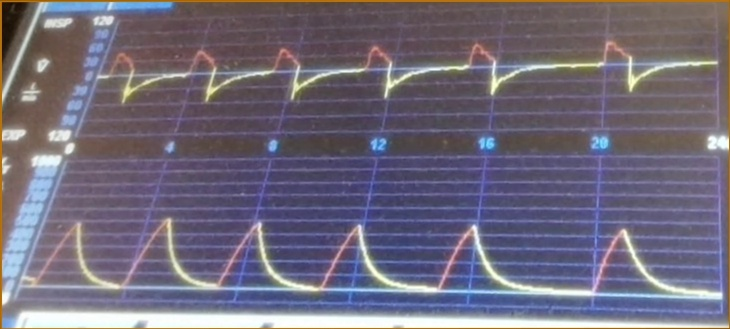Accumulation Flow: (113, 33, 701, 133)
Volume: (45, 211, 709, 309)
